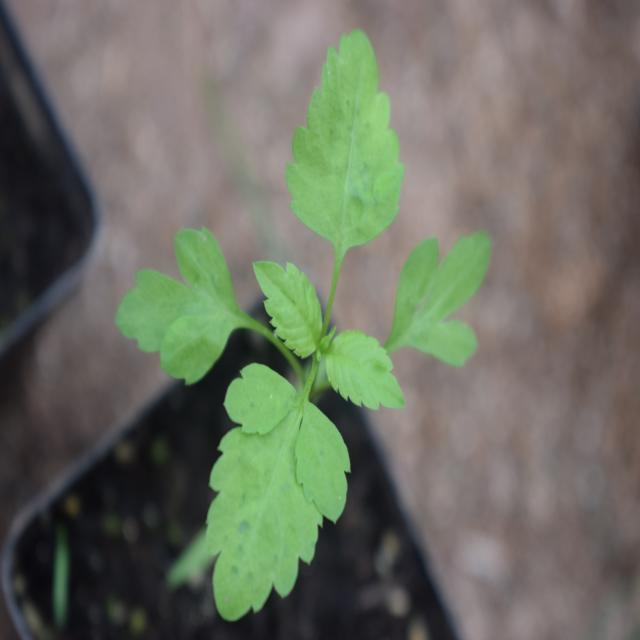Bidens pilosa: (115, 39, 478, 603)
